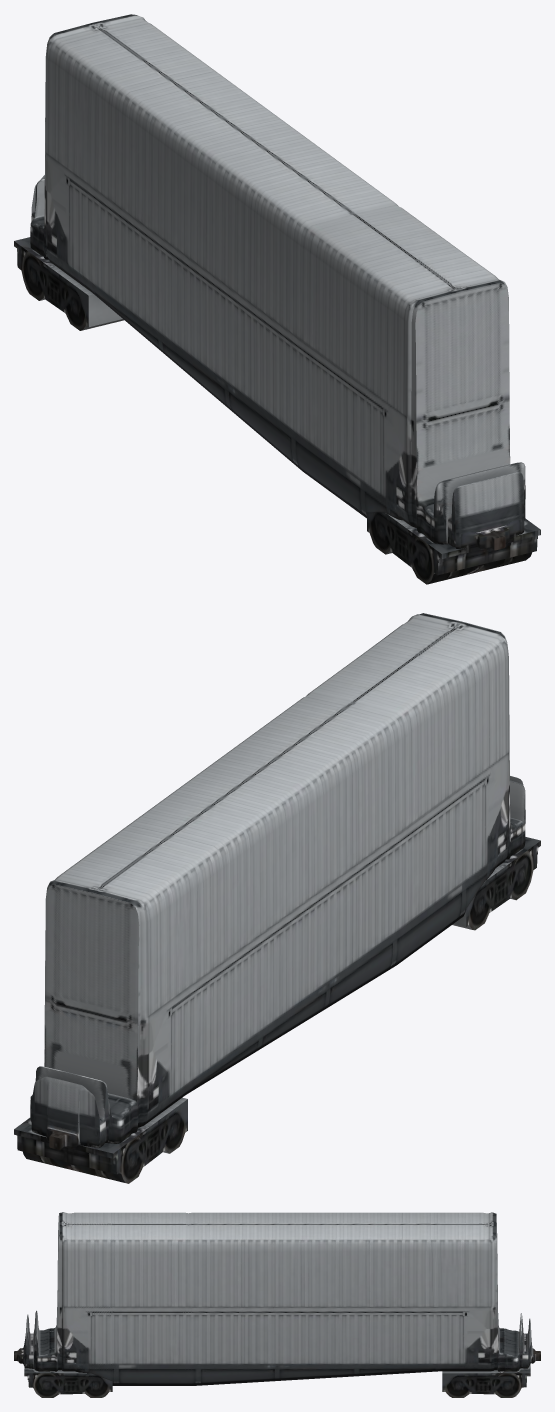
The model's file is tr_stack.glb.
The picture shows the model from 3 angles, top to bottom: view 1: azimuth 30°, elevation 25°; view 2: azimuth 150°, elevation 25°; view 3: azimuth 270°, elevation 25°; orthographic projection. The views are drawn at different scales.
Parts seen in each view (by area): view 1: body; view 2: body; view 3: body.
Boxes of the visible parts, x1,y1,x2,y2 form: body: [14, 14, 540, 584]; body: [14, 613, 540, 1183]; body: [14, 1212, 540, 1397].
Size of the model in its own units: 2.68 by 6.76 by 20.16.
1 material, 1 textured.
